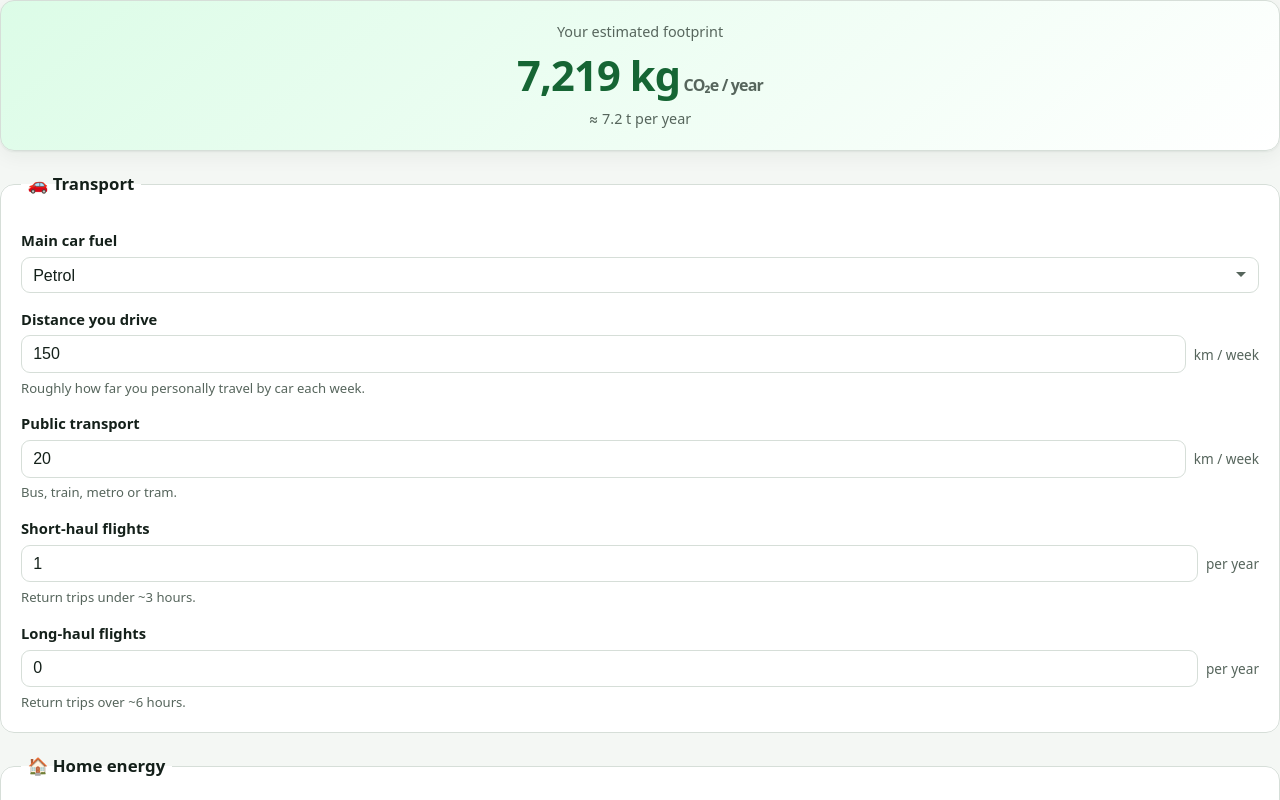
CalculatorForm › recalculates and disables driving distance when the car is removed
Select "No car" in the dropdown labelled "Main car fuel" at point(640, 275), box [21,257,1259,293]
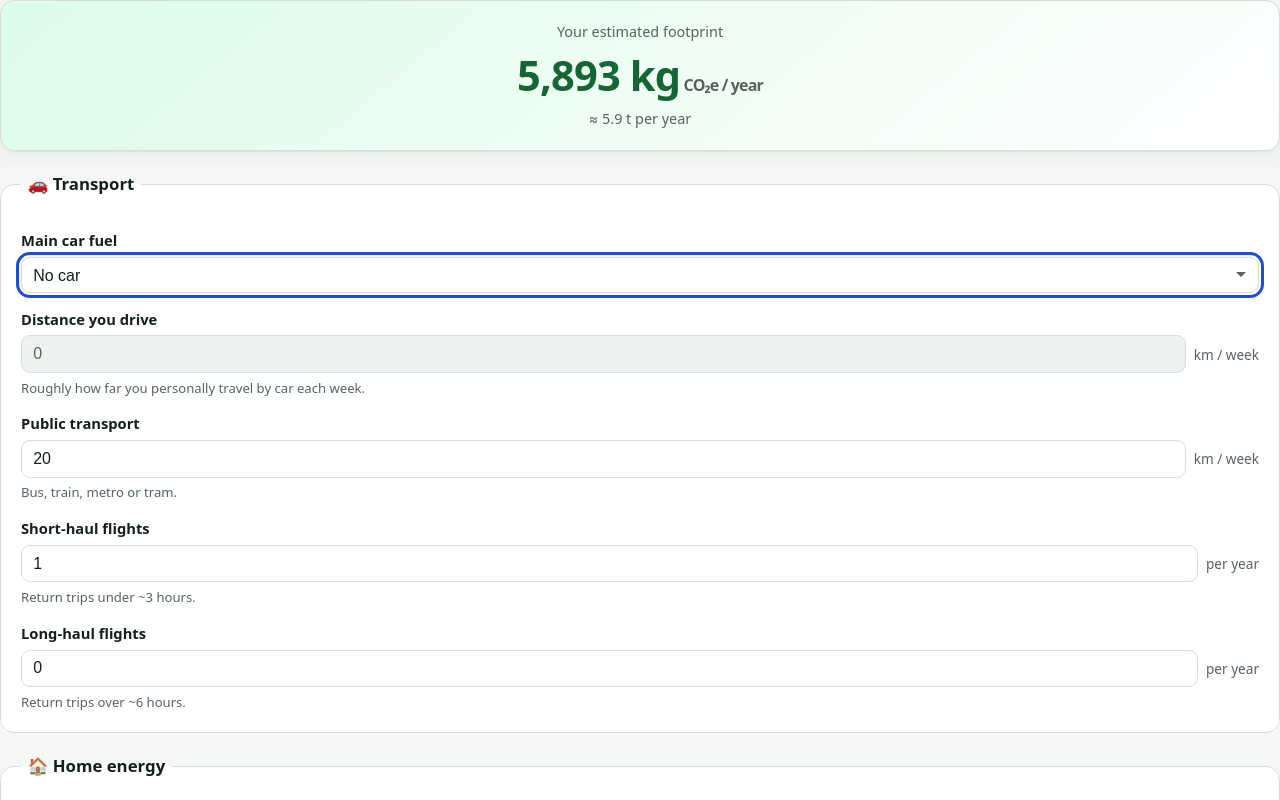
expect the number field labelled "Distance you drive" is disabled: met, box [21,335,1186,373]
expect the text "5,893 kg CO₂e / year" is shown: met, box [517,47,763,103]
